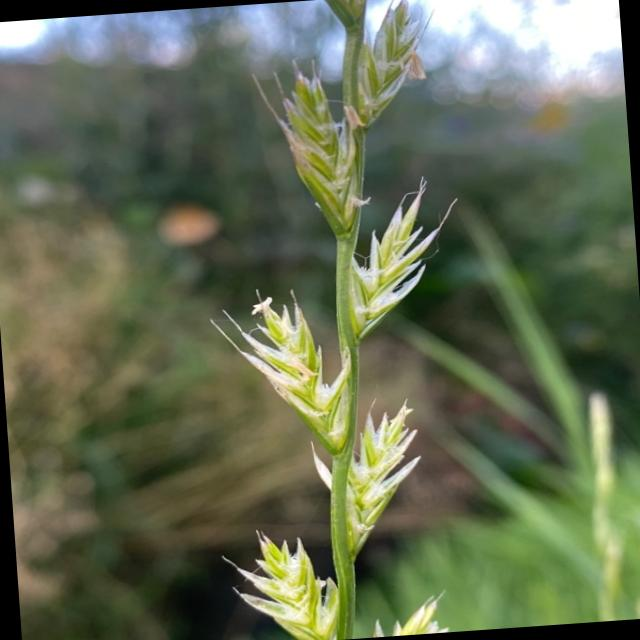Lolium: (181, 0, 489, 640)
